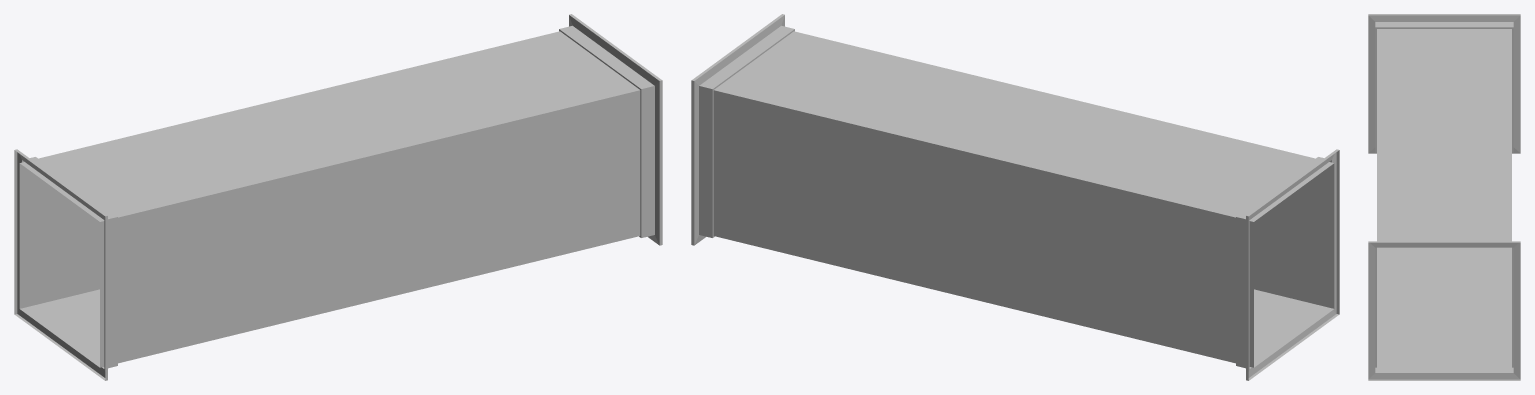
The model's file is SM_Airing_200.FBX.
The picture shows the model from 3 angles, left to right: view 1: azimuth 30°, elevation 25°; view 2: azimuth 150°, elevation 25°; view 3: azimuth 270°, elevation 25°; orthographic projection. The views are drawn at different scales.
Visible parts, largest first — view 1: SM_Airing_200; view 2: SM_Airing_200; view 3: SM_Airing_200.
Boxes of the visible parts, <box> form: SM_Airing_200: <box>14,14,662,380</box>; SM_Airing_200: <box>691,14,1339,380</box>; SM_Airing_200: <box>1368,14,1520,380</box>.
Size of the model in its own units: 200 by 56.42 by 56.42.
